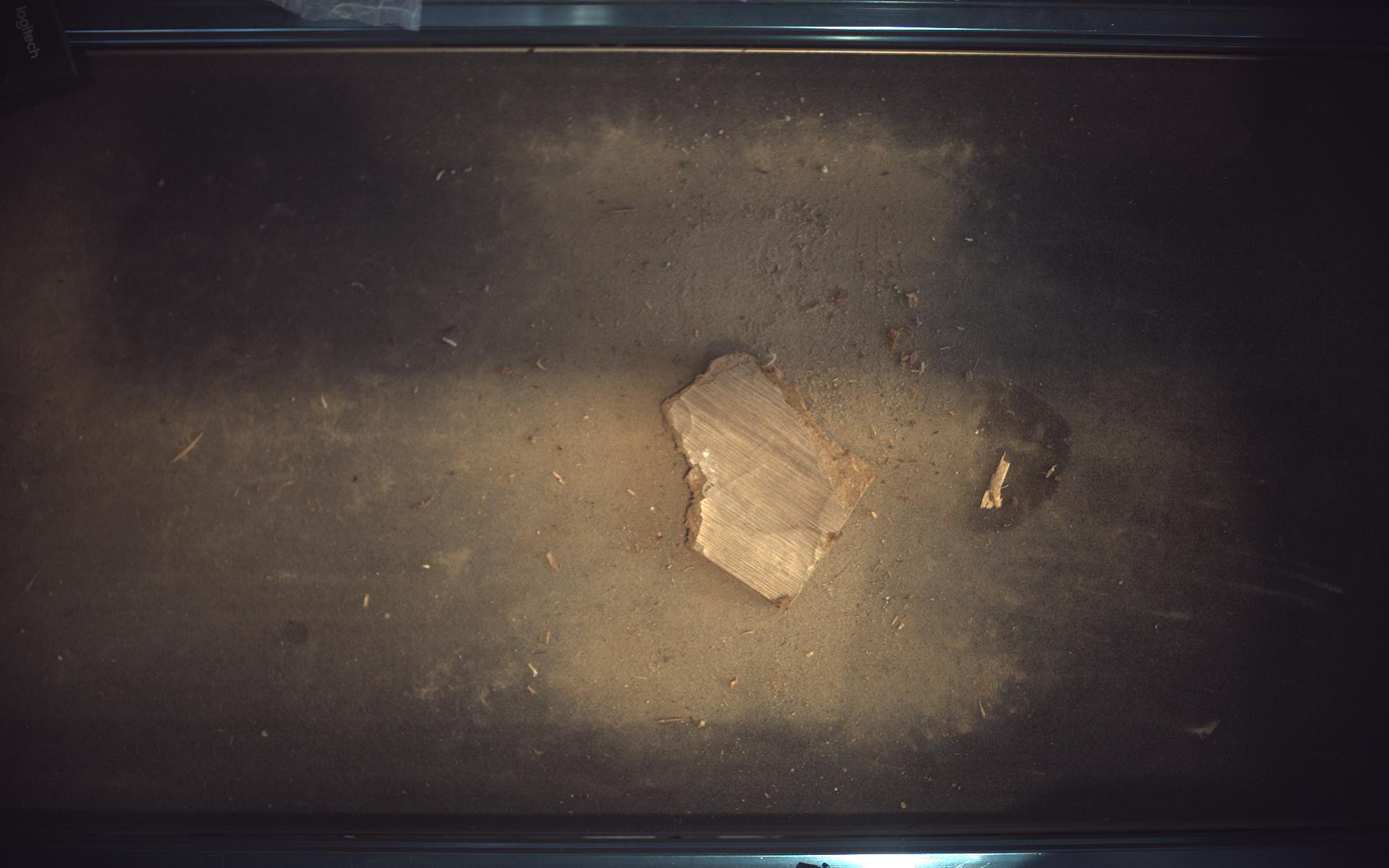wood: (663, 352, 878, 608)
